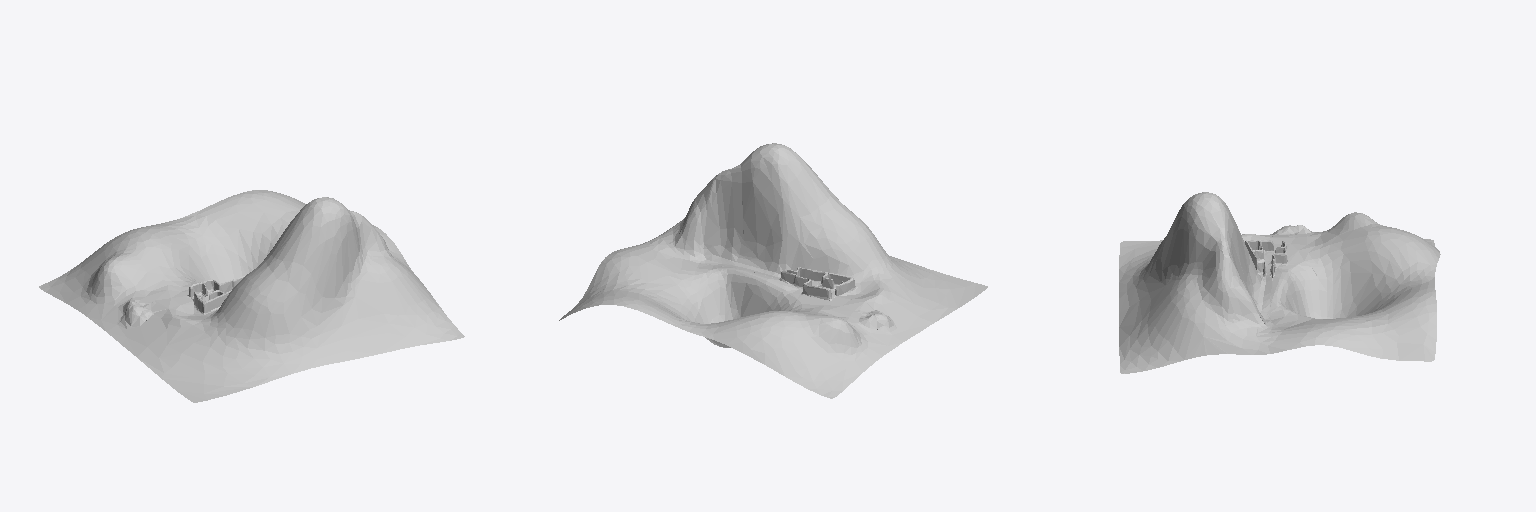
The model's file is casa_montanha_rapido.obj.
3 renders of one model, left to right at view 1: azimuth 30°, elevation 25°; view 2: azimuth 150°, elevation 25°; view 3: azimuth 270°, elevation 25°, orthographic.
Bounding box in the file's own units: 1900 × 970 × 1855.